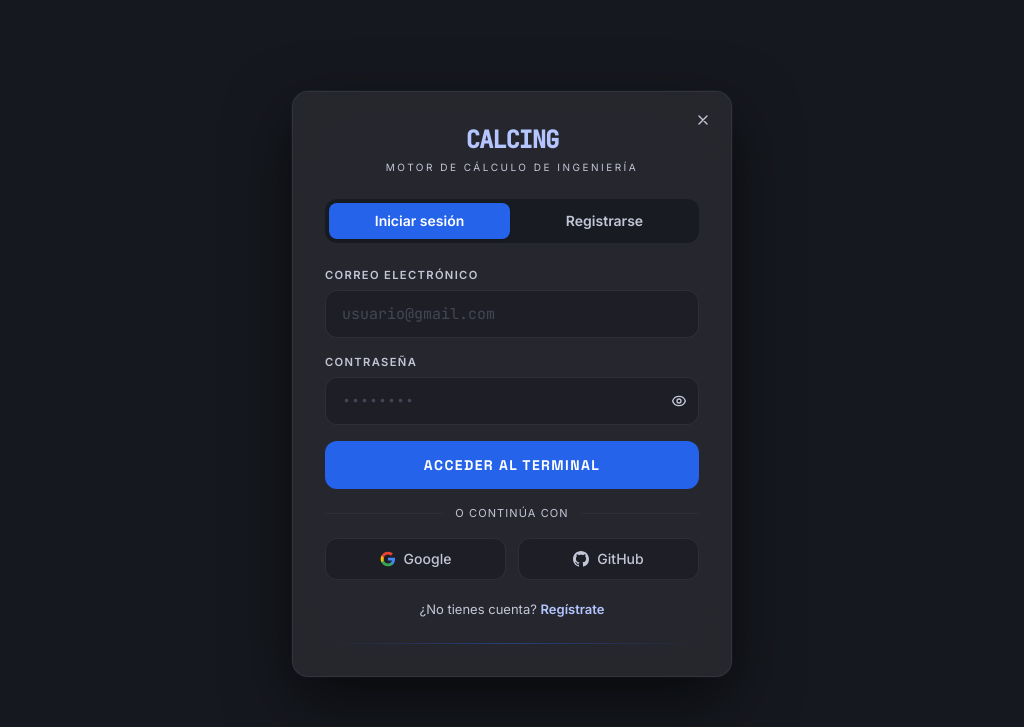
Test: AuthModal › register flow › on register error (PASSWORD_POLICY from backend) shows the policy message
Click the button "Regístrate". click: (572, 610)
box: [540,600,604,619]
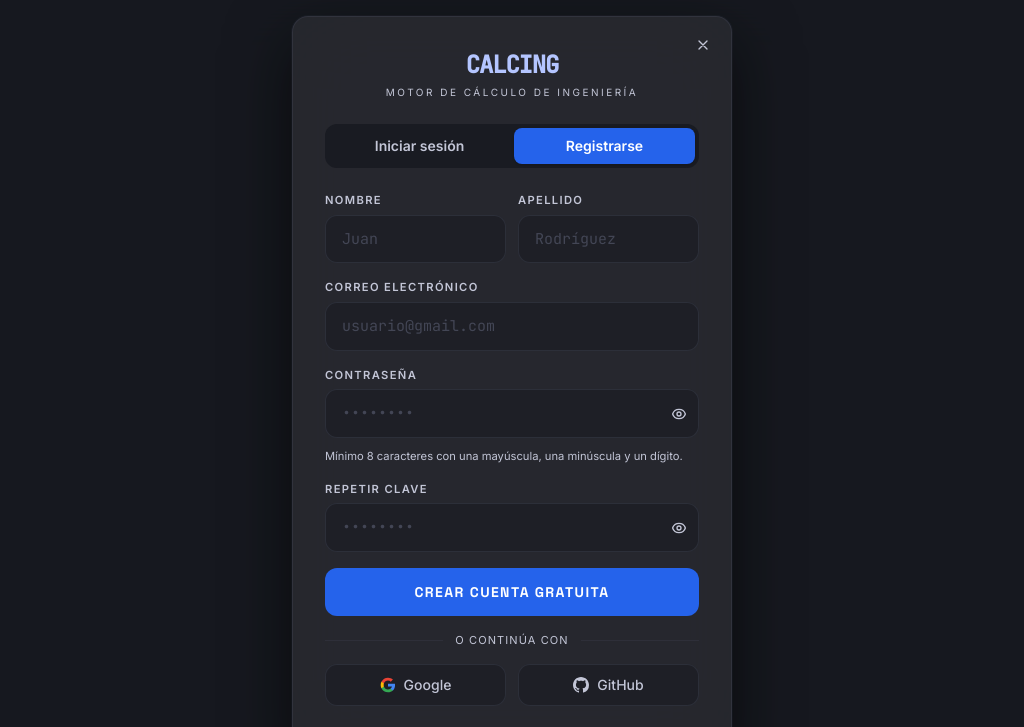
Type "a@b.com" into the field labelled "Correo electrónico". click: (512, 326)
box: [325,302,699,351]
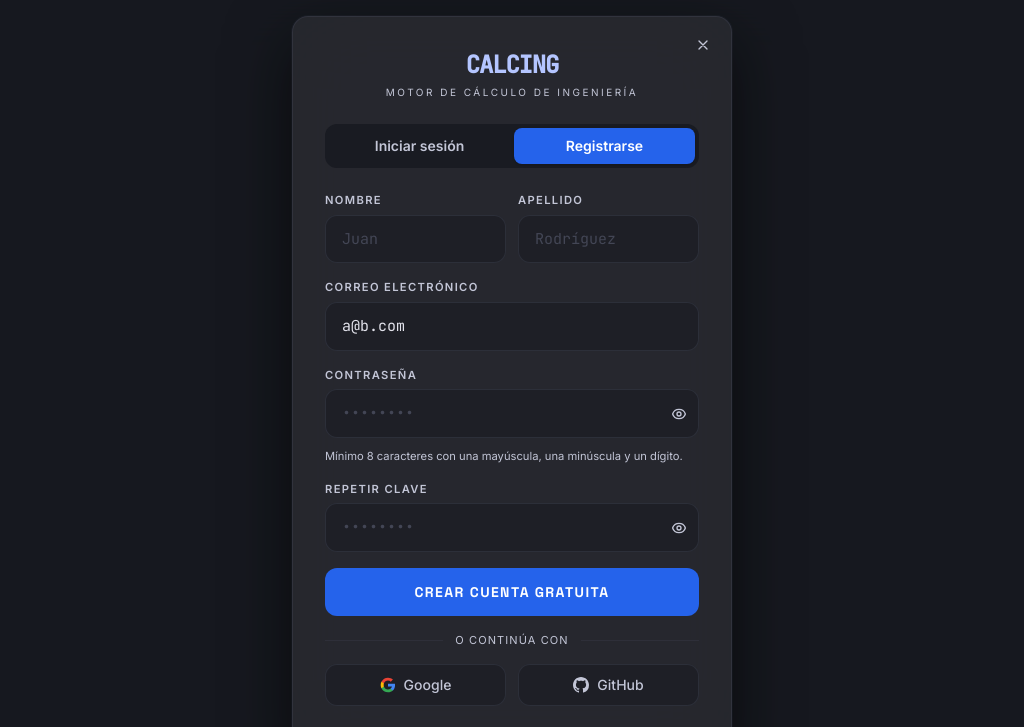
Type "Pass1234" into the password field labelled "Contraseña". click: (512, 414)
box: [325,389,699,438]
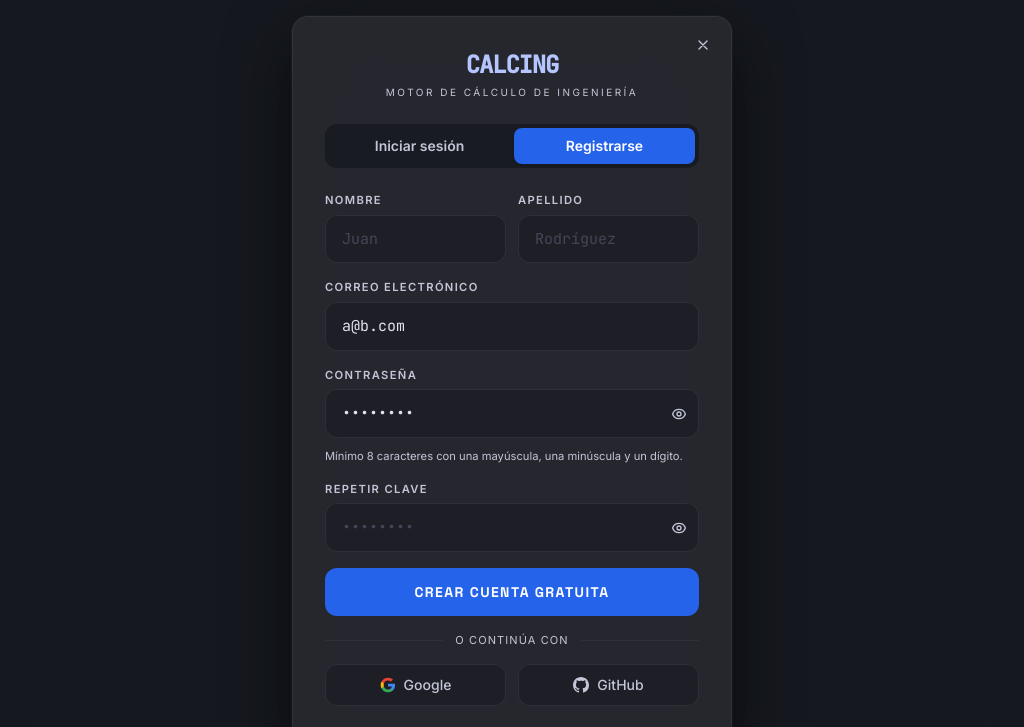
Submit the form with test id "auth-form", box [325,192,699,706]
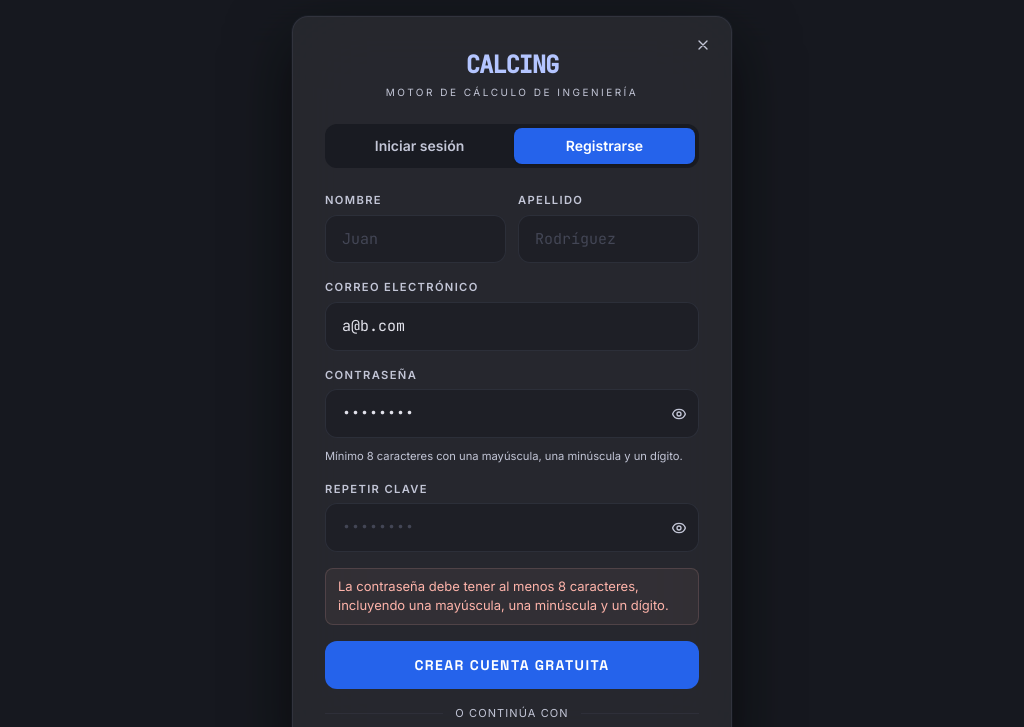
Expected: the message shows "al menos 8 caracteres", [338,578,669,614]
